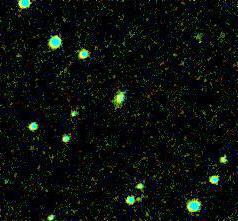star: (125, 187, 155, 217)
